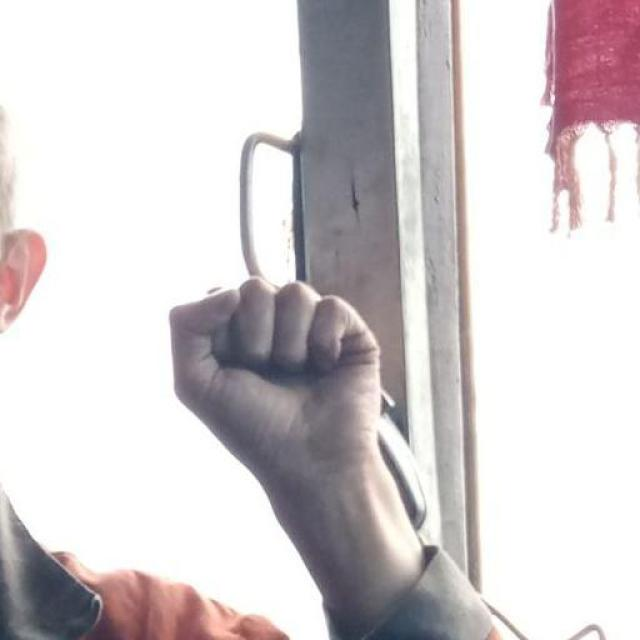hand: (166, 274, 432, 466)
